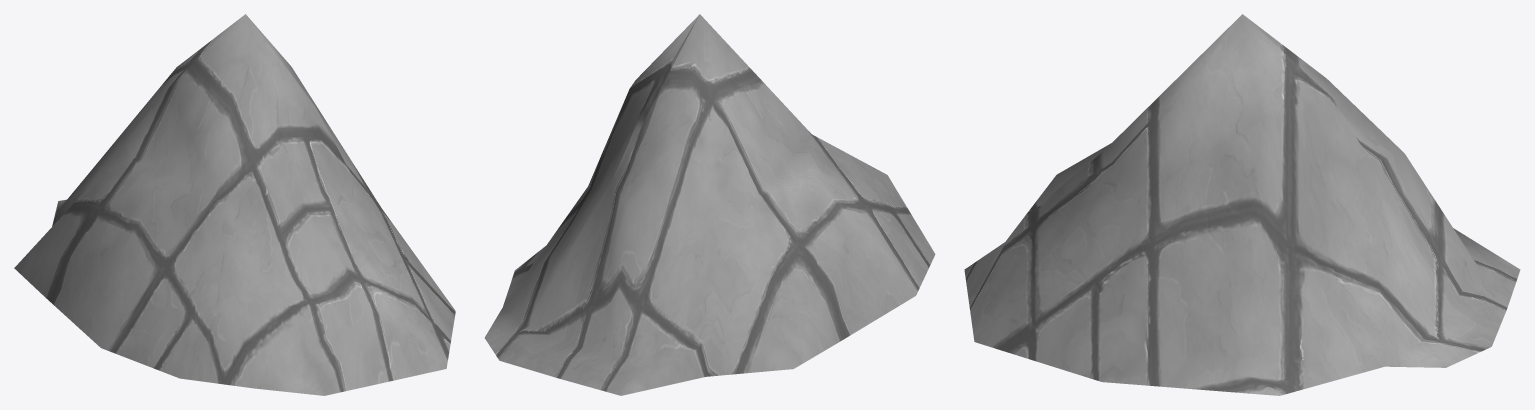
The model's file is Obstacle_RoadWorks_Dirtpile.fbx.
The picture shows the model from 3 angles, left to right: view 1: azimuth 30°, elevation 25°; view 2: azimuth 150°, elevation 25°; view 3: azimuth 270°, elevation 25°; orthographic projection. The views are drawn at different scales.
Parts seen in each view (by area): view 1: Obstacle_Roadworks_Dirtpile; view 2: Obstacle_Roadworks_Dirtpile; view 3: Obstacle_Roadworks_Dirtpile.
Boxes of the visible parts, x1,y1,x2,y2 form: Obstacle_Roadworks_Dirtpile: [14, 14, 455, 395]; Obstacle_Roadworks_Dirtpile: [484, 14, 935, 395]; Obstacle_Roadworks_Dirtpile: [964, 14, 1520, 395].
Size of the model in its own units: 53.45 by 70.9 by 41.75.
